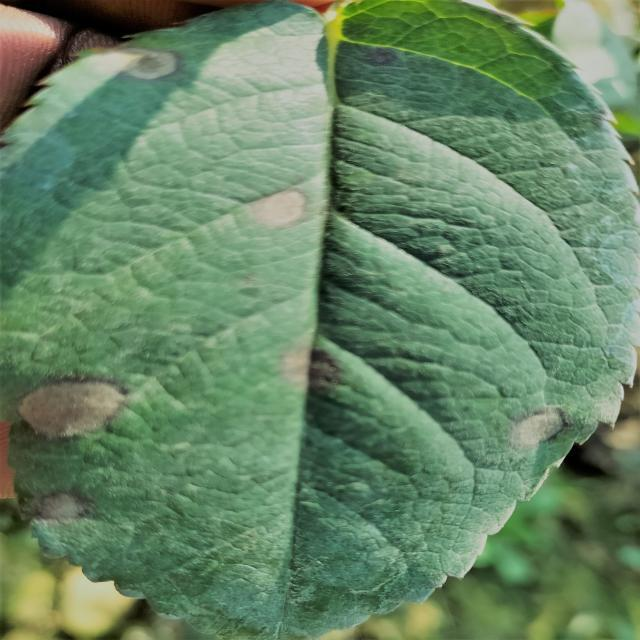Black_spot: (14, 371, 130, 442)
Rose: (0, 0, 639, 639)
